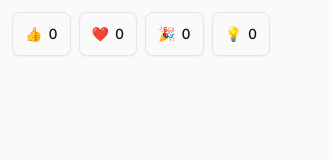
Test case: comment reaction controls › does not offer retries for a permanently unavailable comment
Click the button named "Like: 0 reactions" at (41, 34), box [12,12,70,56]
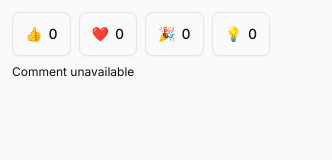
Now the text "Comment unavailable" is shown, box [12,64,134,80]
